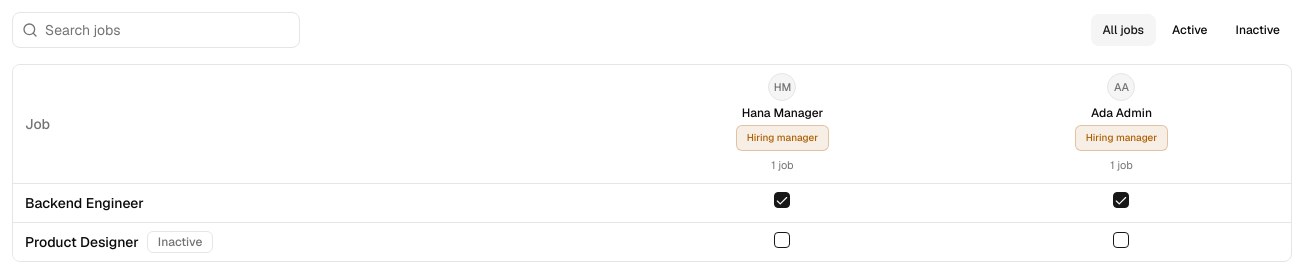
Test case: HiringTeamsMatrix (RP-REQ-011) › filters jobs by title and status
This screenshot has width=1304, height=279.
Type "design" into the field labelled "Search jobs" at (156,30), box [12,12,300,48]
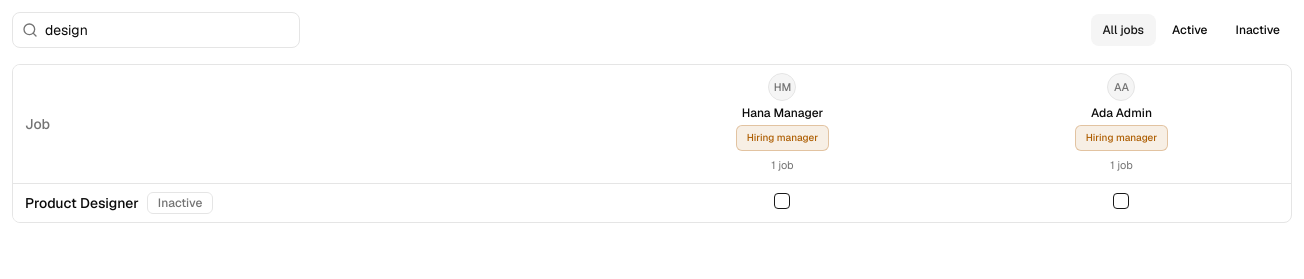
Expected: the link "Product Designer" is shown, [25,193,139,213]
Result: the link "Backend Engineer" is gone
Clear the field named "Search jobs" at (156,30), box [12,12,300,48]
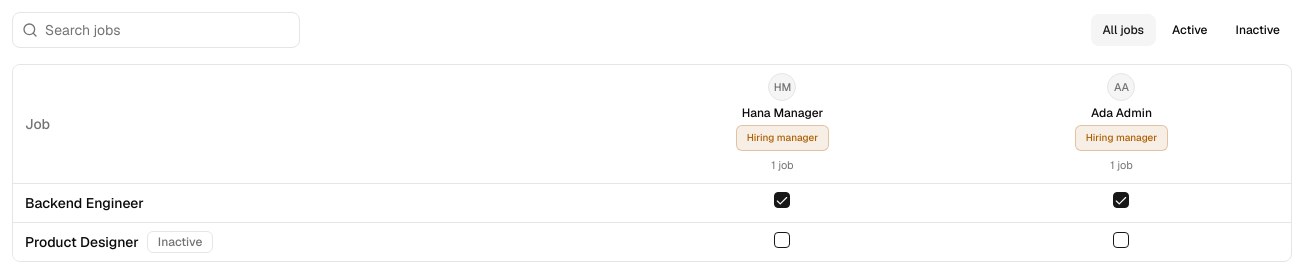
Click the button "Active" at (1190,30), box [1160,14,1220,46]
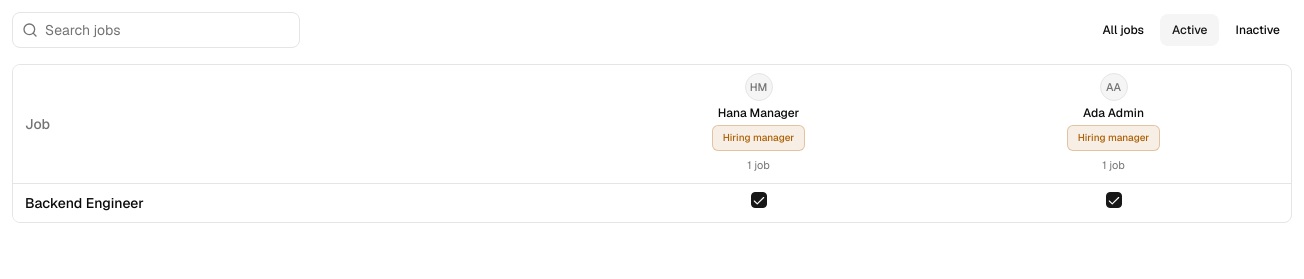
Result: the link "Backend Engineer" is shown at [25,193,144,213]
Result: the link "Product Designer" is gone
